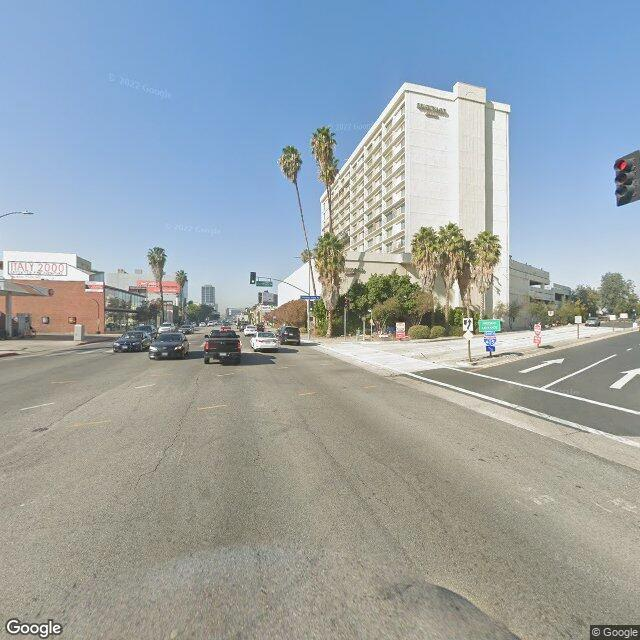crack: (132, 378, 200, 491)
